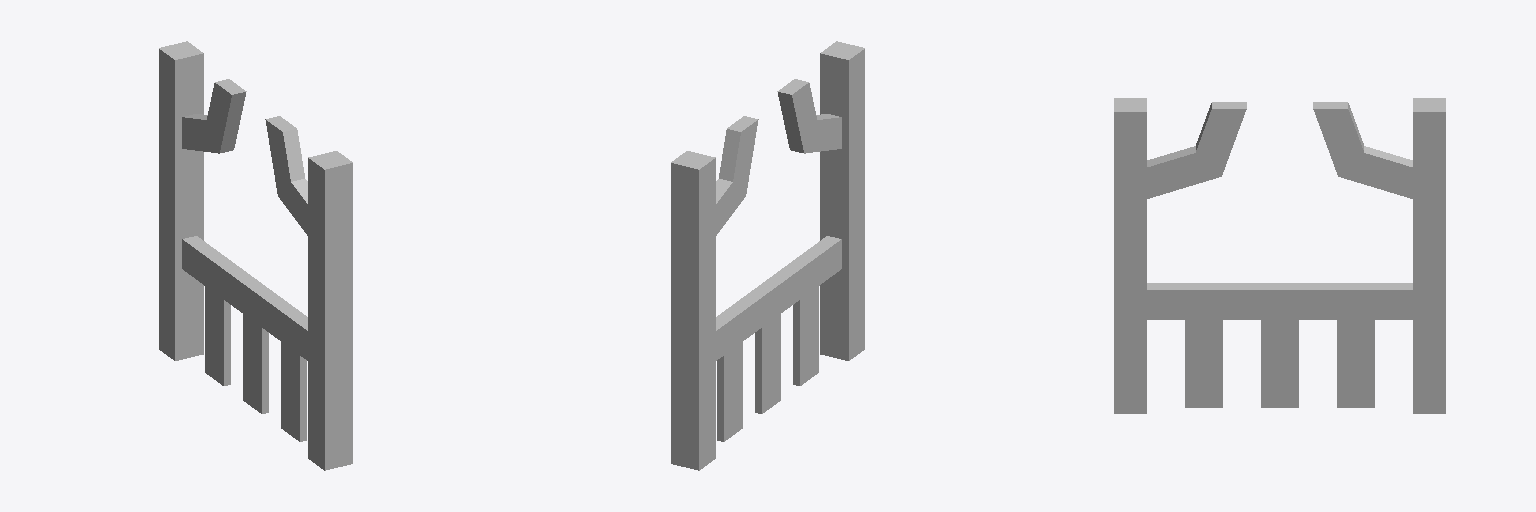
Rendered from balcony-wall-fence.obj.
3 views of the same model, side by side, from view 1: azimuth 30°, elevation 25°; view 2: azimuth 150°, elevation 25°; view 3: azimuth 270°, elevation 25° (orthographic).
Visible parts, largest first — view 1: balcony-wall-fence; view 2: balcony-wall-fence; view 3: balcony-wall-fence.
Boxes of the visible parts, x1,y1,x2,y2 form: balcony-wall-fence: [159, 41, 352, 470]; balcony-wall-fence: [671, 41, 864, 470]; balcony-wall-fence: [1114, 98, 1445, 413].
Bounding box in the file's own units: 0.1 × 1 × 1.